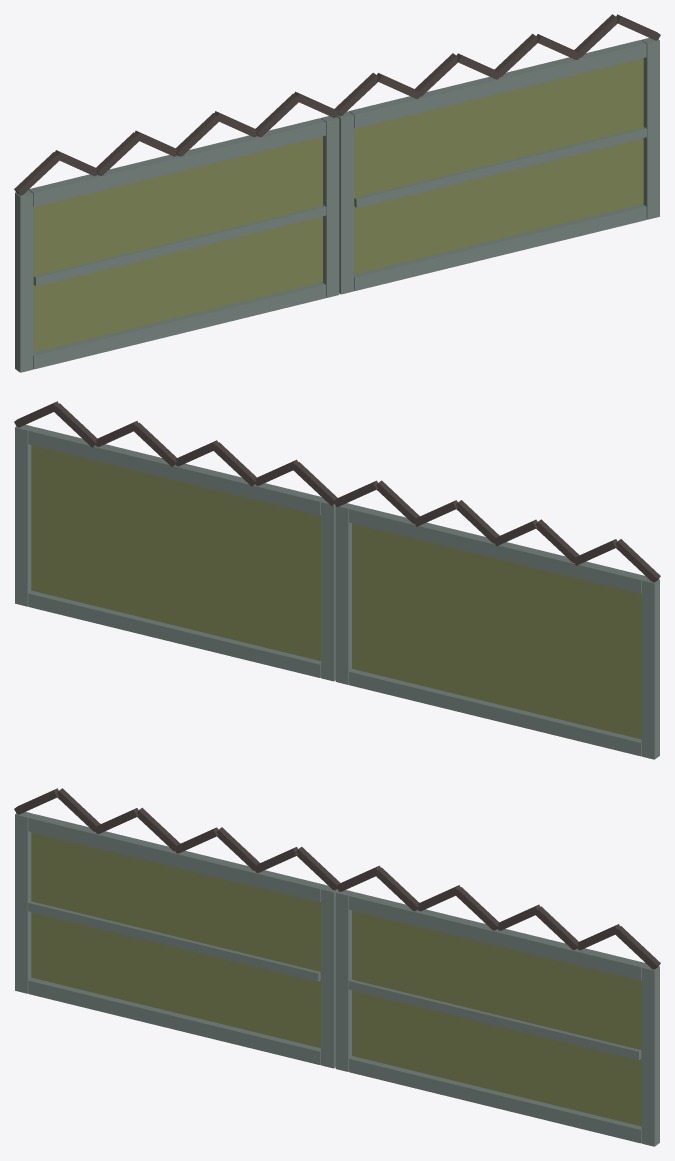
Rendered from SM_PuertaVehiculos_v3_LOD1.fbx.
The picture shows the model from 3 angles, top to bottom: view 1: azimuth 30°, elevation 25°; view 2: azimuth 150°, elevation 25°; view 3: azimuth 330°, elevation 25°; orthographic projection.
Parts seen in each view (by area): view 1: Hoja_O, Hoja_E; view 2: Hoja_O, Hoja_E; view 3: Hoja_E, Hoja_O.
Part boxes in pixels (x1,y1,x2,y2): Hoja_O: [14, 91, 339, 372]; Hoja_E: [334, 14, 660, 294]; Hoja_O: [334, 480, 660, 759]; Hoja_E: [14, 401, 337, 681]; Hoja_E: [335, 865, 660, 1146]; Hoja_O: [14, 788, 340, 1068].
Size of what is drawn, in the model's own units: 8.02 by 2.48 by 0.155.
